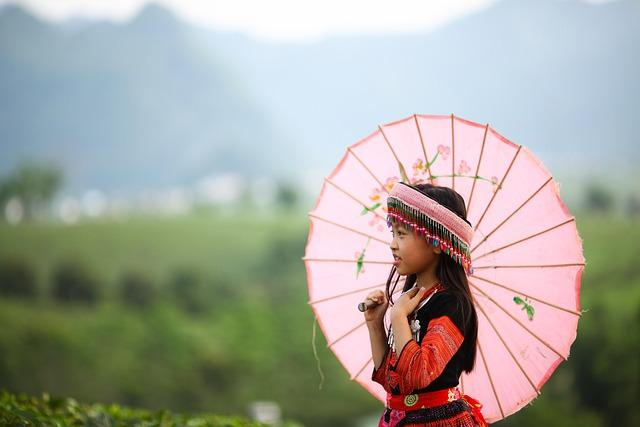Non_Gorille: (244, 111, 585, 427)
